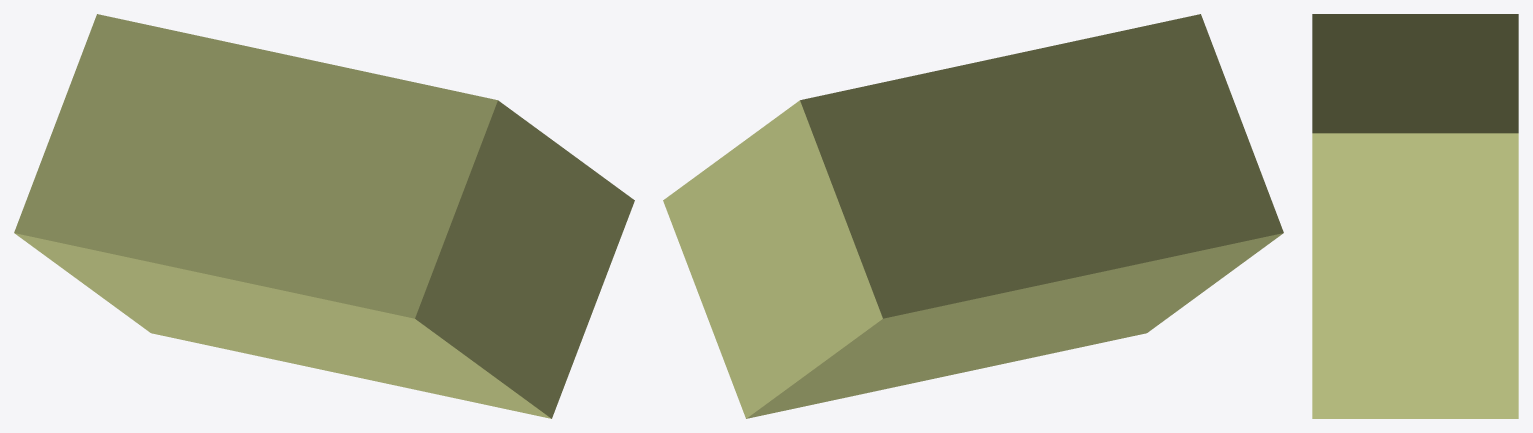
The picture shows the model from 3 angles, left to right: view 1: azimuth 30°, elevation 25°; view 2: azimuth 150°, elevation 25°; view 3: azimuth 270°, elevation 25°; orthographic projection. The views are drawn at different scales.
Parts seen in each view (by area): view 1: 0_1_0_0_1_3_0_2; view 2: 0_1_0_0_1_3_0_2; view 3: 0_1_0_0_1_3_0_2.
Part boxes in pixels (box(x1,y1,x2,y2)): 0_1_0_0_1_3_0_2: box(14, 14, 634, 418); 0_1_0_0_1_3_0_2: box(663, 14, 1283, 418); 0_1_0_0_1_3_0_2: box(1312, 14, 1518, 418).
Size of the model in its own units: 12.24 by 9.24 by 6.
